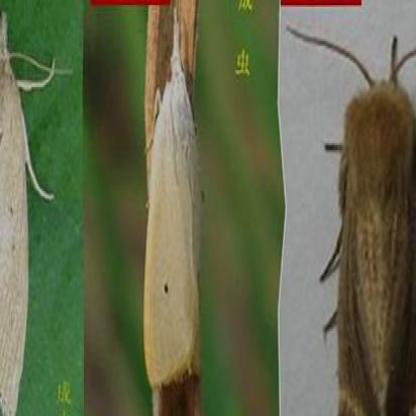stem-borer: (285, 25, 416, 416), (143, 8, 204, 391)
